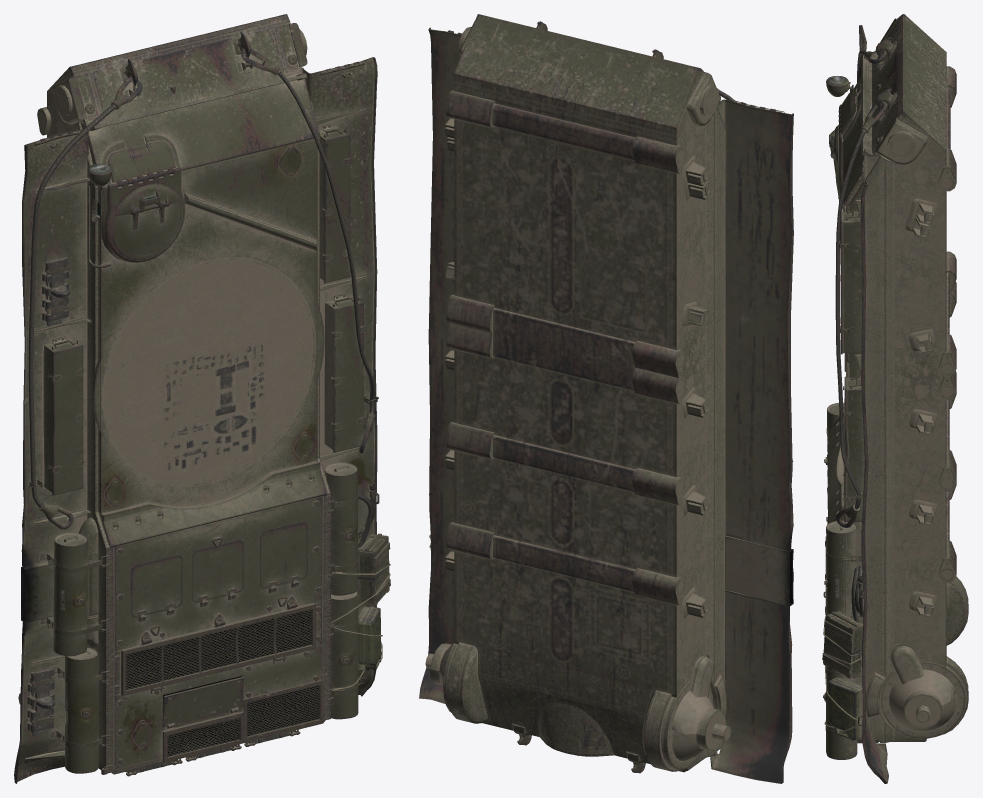
Rendered from Hull.glb.
3 renders of one model, left to right at view 1: azimuth 30°, elevation 25°; view 2: azimuth 150°, elevation 25°; view 3: azimuth 270°, elevation 25°, orthographic. The views are drawn at different scales.
Parts seen in each view (by area): view 1: set_0_group_0; view 2: set_0_group_0; view 3: set_0_group_0.
Boxes of the visible parts, bbox=[...] form: set_0_group_0: bbox=[14, 14, 390, 783]; set_0_group_0: bbox=[419, 14, 793, 783]; set_0_group_0: bbox=[822, 14, 968, 783].
Size of the model in its own units: 3.21 by 5.89 by 1.21.
Materials: 1 (1 with a texture image).
